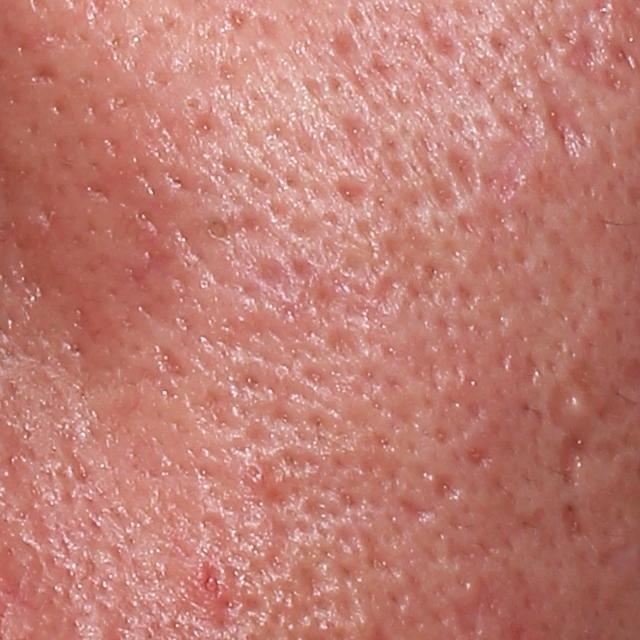atrophic_scar: (303, 239, 421, 331), (538, 69, 603, 164), (547, 383, 599, 494), (569, 364, 635, 432), (178, 387, 247, 445), (556, 22, 609, 90), (152, 338, 191, 388), (449, 147, 483, 201), (321, 24, 361, 67), (561, 499, 595, 546), (328, 325, 371, 361), (399, 493, 443, 525), (429, 171, 459, 215), (337, 177, 373, 207), (463, 441, 494, 472), (26, 62, 60, 83)
comedo: (200, 214, 231, 248)
hypertrophic_scar: (560, 390, 594, 429)
